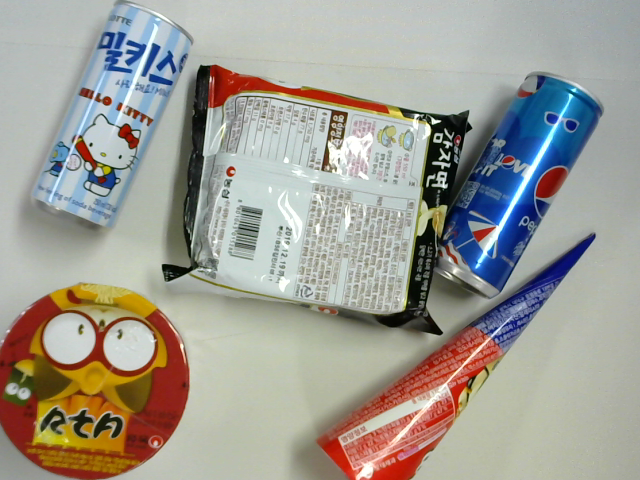Milkies_250ml: (33, 1, 193, 234)
Pepsi_Cola_Can_250ml: (410, 70, 602, 302)
Potato: (187, 69, 458, 338)
Raccoon: (1, 289, 186, 478)
World_Cone_Banila: (320, 228, 599, 480)
